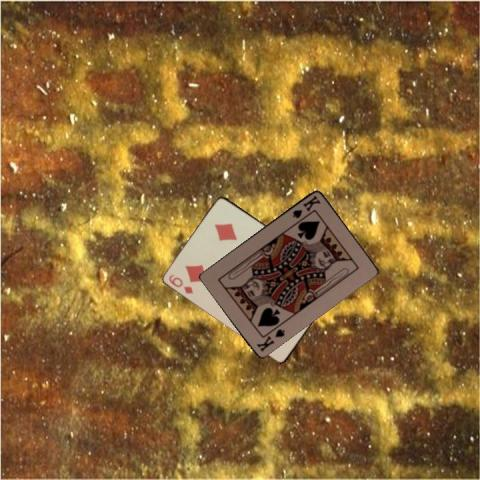6d: (166, 271, 195, 296)
Ks: (289, 192, 322, 220), (254, 325, 286, 353)
